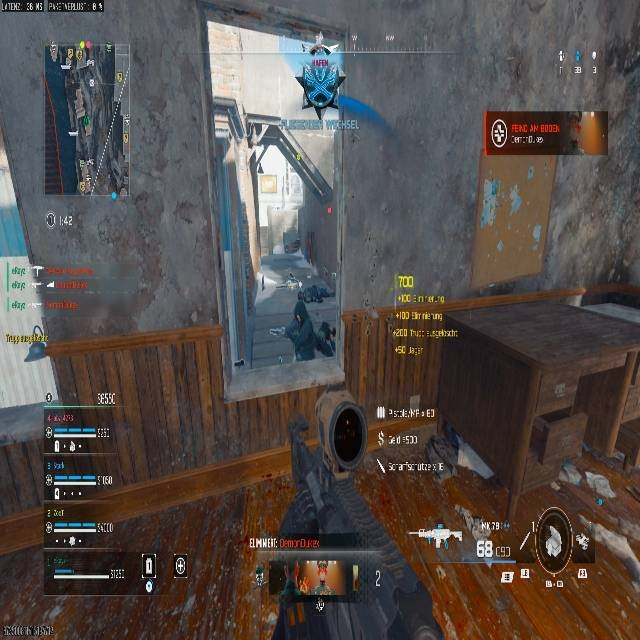head: (293, 301, 307, 326), (321, 321, 328, 328)
player: (285, 277, 335, 362), (293, 44, 346, 119), (284, 305, 313, 362), (317, 321, 336, 357)
